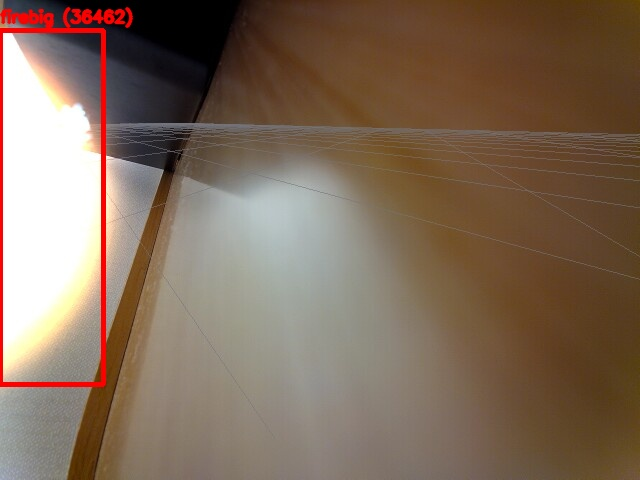firebig: (0, 30, 103, 384)
